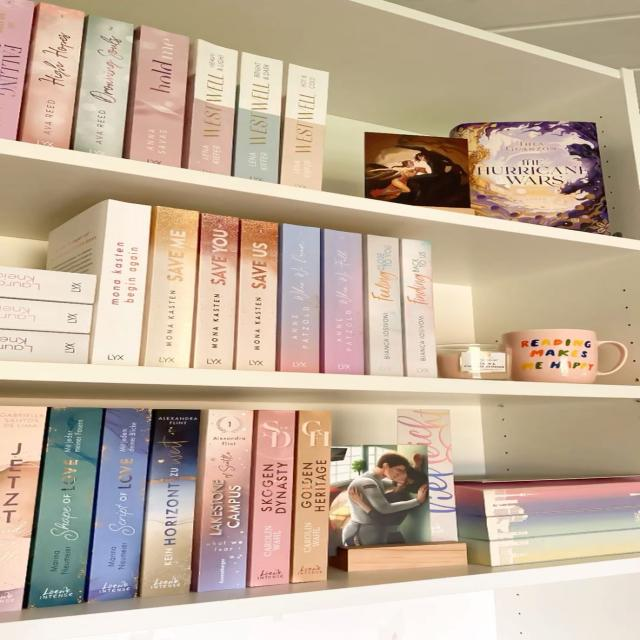book: (47, 200, 150, 365), (28, 409, 103, 608), (88, 409, 150, 600), (192, 410, 251, 592), (140, 411, 198, 596), (18, 3, 84, 148), (141, 206, 199, 367), (0, 406, 46, 609), (123, 26, 189, 167), (72, 15, 133, 157), (248, 411, 294, 587), (191, 213, 238, 369), (183, 40, 237, 175), (290, 411, 331, 581), (234, 220, 277, 371), (233, 52, 282, 183), (320, 229, 364, 374), (277, 224, 319, 372), (279, 64, 328, 190), (363, 235, 401, 376), (401, 240, 436, 377), (0, 0, 34, 139), (0, 267, 96, 304), (0, 298, 90, 334), (0, 329, 88, 363)
candle: (437, 343, 510, 379)
